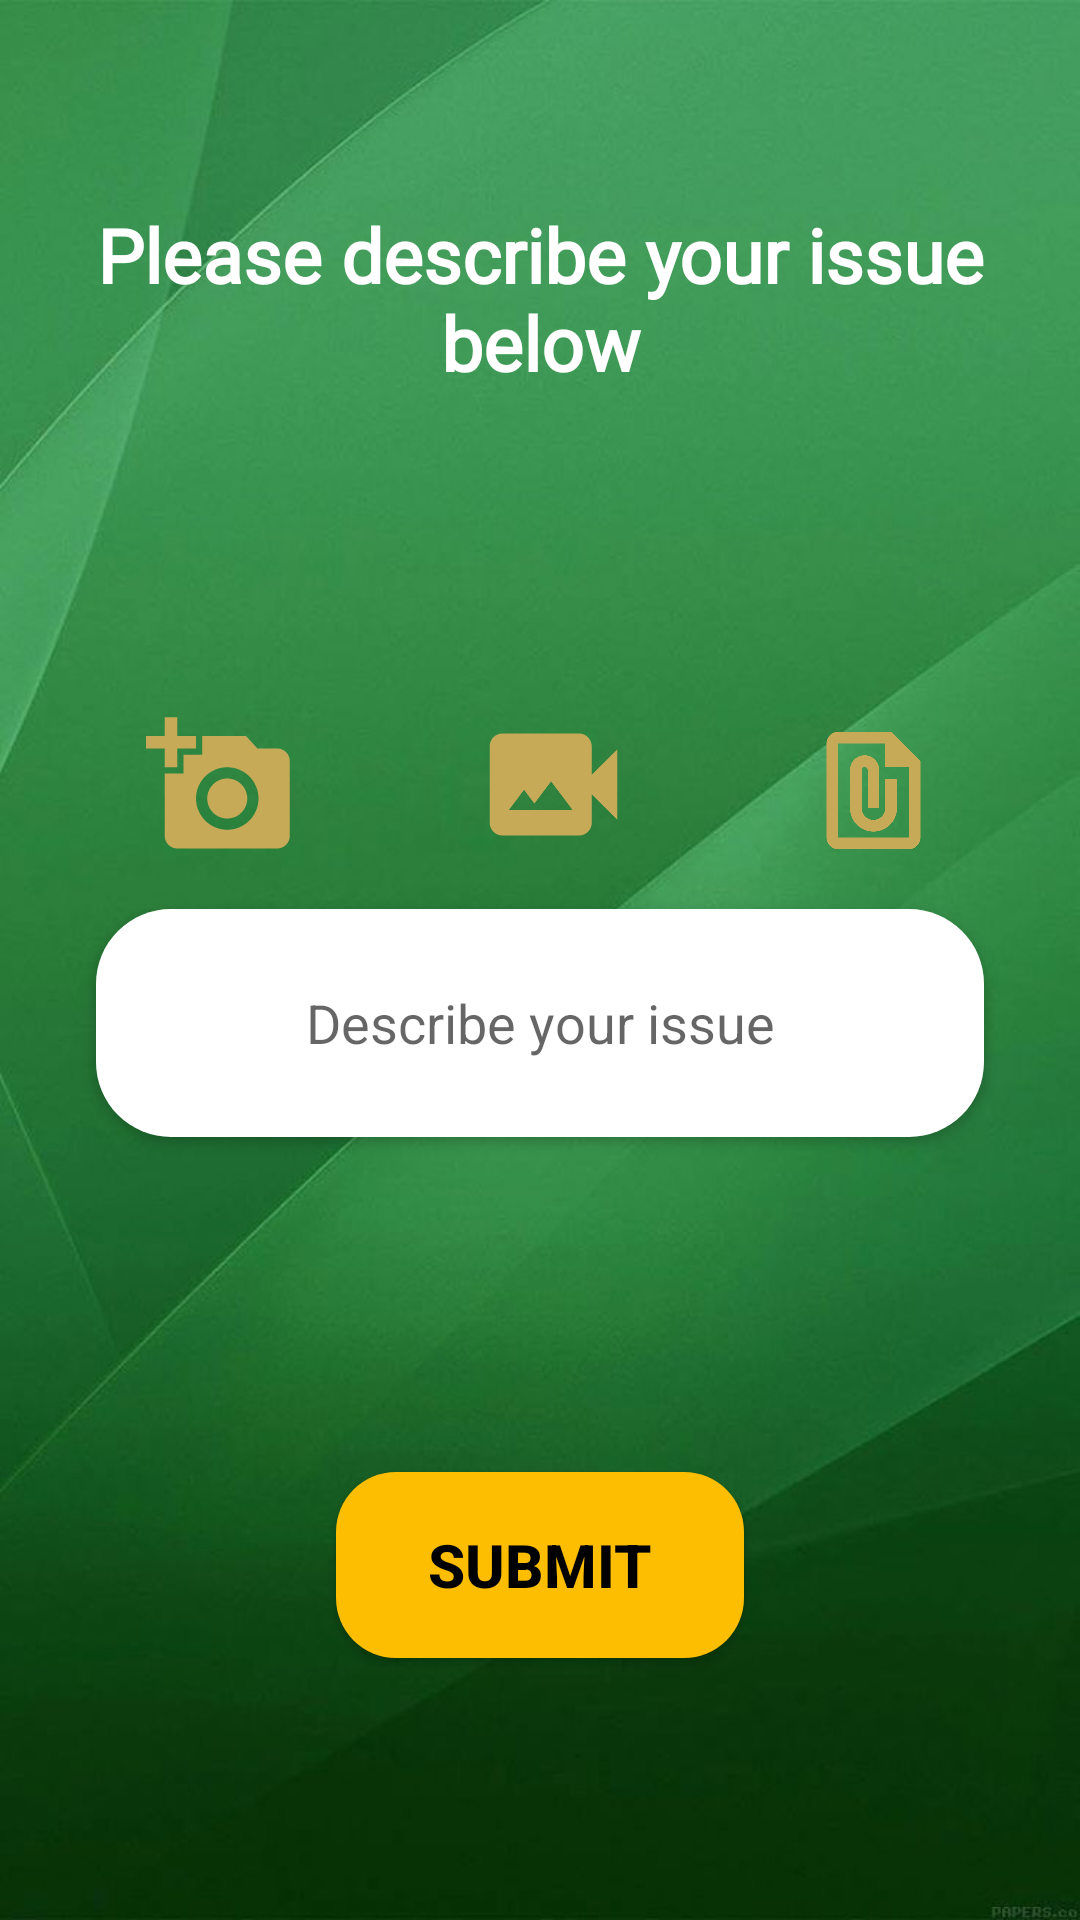

Named icons in this screenshot (1080px×1920px) and their centers, point (x, y):
file upload: point (845, 784)
video upload: point (553, 784)
